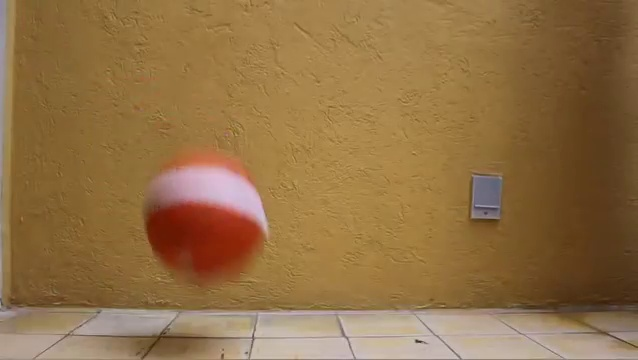ball: (143, 152, 268, 282)
